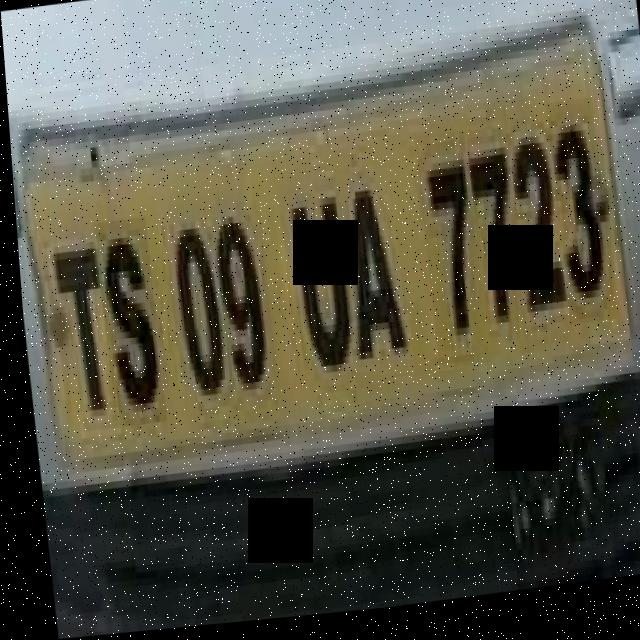0: (160, 210, 224, 413)
3: (543, 108, 610, 336)
7: (411, 138, 483, 378), (462, 134, 519, 352)
9: (206, 215, 274, 410)
A: (334, 174, 409, 387)
S: (90, 218, 160, 430)
T: (42, 238, 115, 444)
U: (279, 163, 353, 400)
